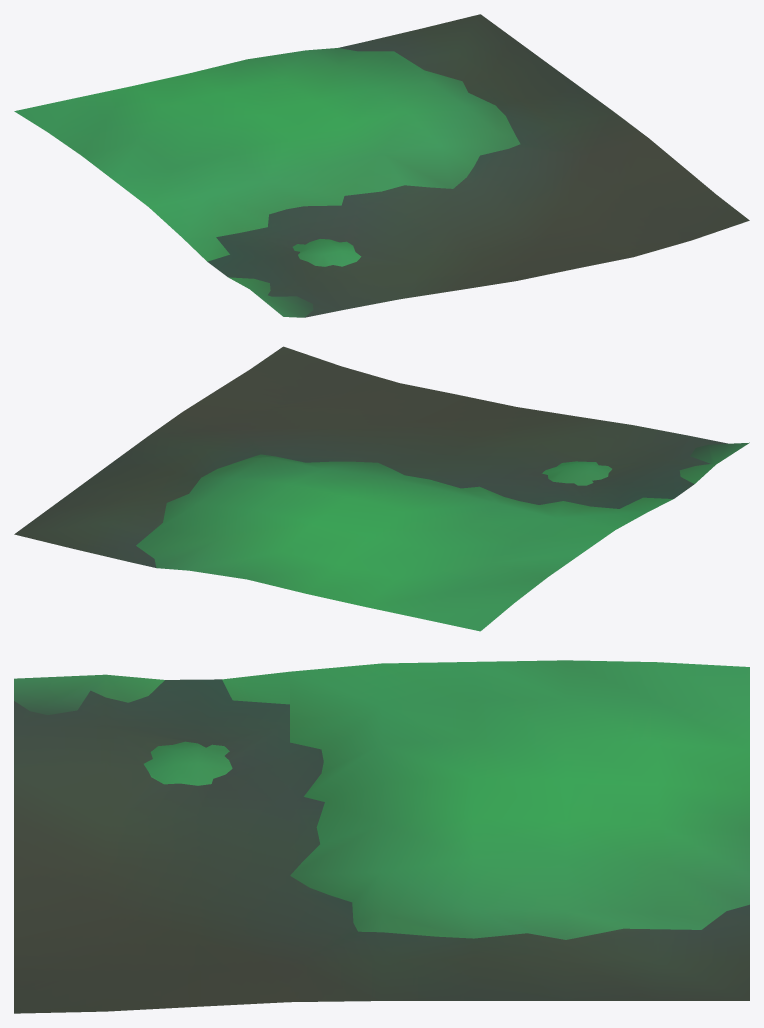
File: LevelB4.fbx
3 renders of one model, top to bottom at view 1: azimuth 30°, elevation 25°; view 2: azimuth 150°, elevation 25°; view 3: azimuth 270°, elevation 25°, orthographic. The views are drawn at different scales.
Parts seen in each view (by area): view 1: GroundB4; view 2: GroundB4; view 3: GroundB4.
Part boxes in pixels (left/top/right/bottom): GroundB4: left=14, top=14, right=749, bottom=317; GroundB4: left=14, top=346, right=749, bottom=631; GroundB4: left=14, top=660, right=749, bottom=1013.
Bounding box in the file's own units: 9057 × 727 × 9057.
